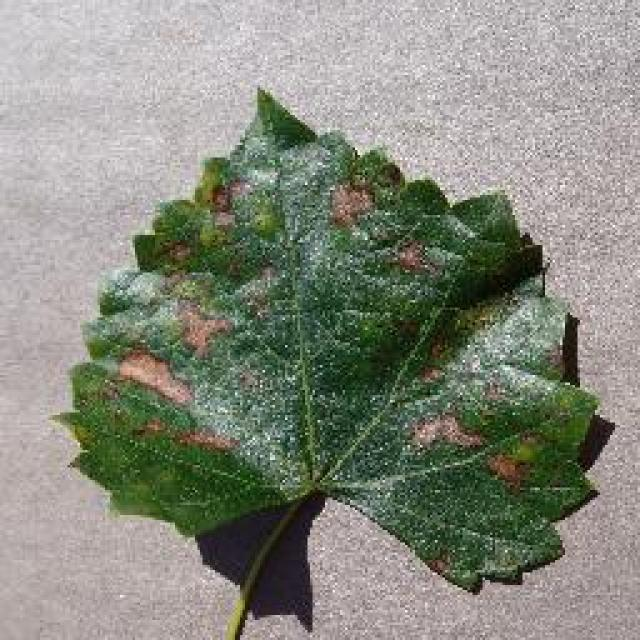Black_Measles: (38, 73, 610, 586)
